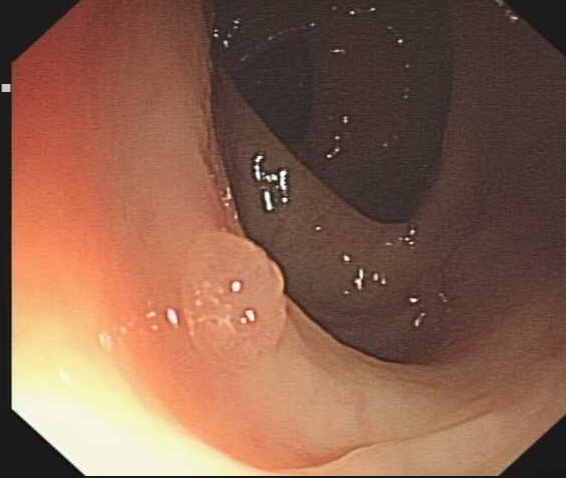adenoma: (179, 228, 288, 366)
